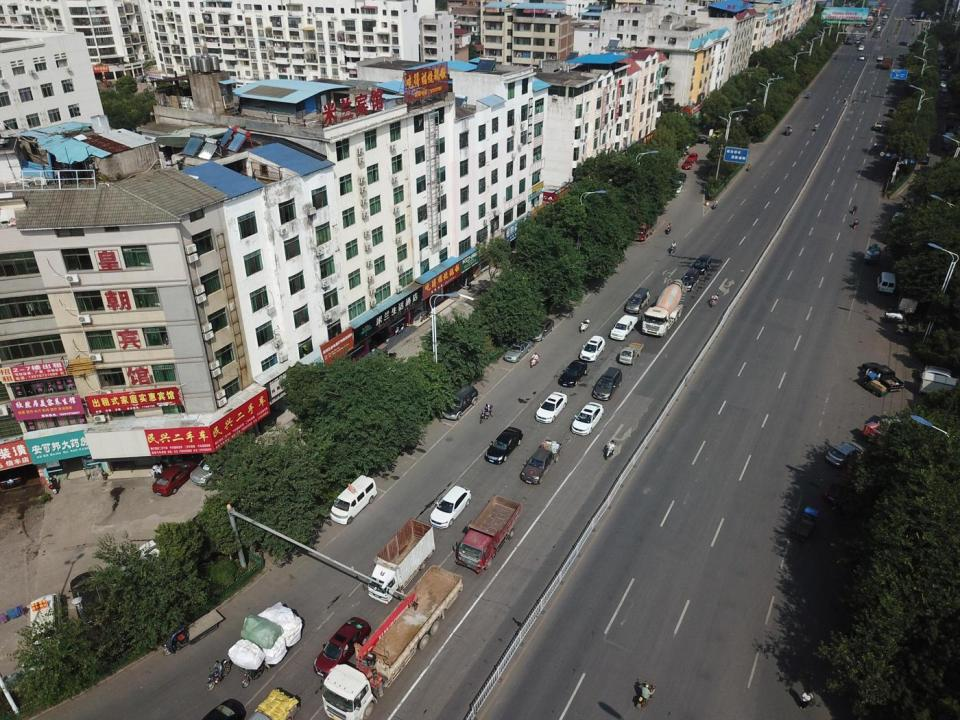car: (315, 615, 373, 676), (430, 485, 472, 531), (69, 571, 102, 626), (190, 457, 243, 487), (152, 462, 196, 497), (485, 426, 524, 464), (441, 385, 479, 420), (139, 539, 168, 580), (571, 402, 605, 435), (533, 392, 568, 423), (823, 474, 858, 505), (591, 367, 623, 400), (826, 441, 867, 466), (558, 360, 588, 388), (502, 336, 531, 362), (580, 335, 606, 362), (527, 319, 554, 341), (919, 366, 953, 382), (693, 254, 710, 278), (682, 269, 700, 291), (668, 172, 686, 182), (892, 212, 905, 225), (692, 136, 710, 144), (920, 151, 929, 165), (673, 182, 684, 193), (712, 128, 723, 139), (682, 160, 694, 169), (686, 152, 698, 161), (898, 40, 909, 46), (885, 7, 890, 16), (877, 55, 884, 61), (858, 45, 864, 51), (856, 42, 862, 48), (859, 54, 864, 60), (872, 32, 877, 38), (876, 24, 880, 31), (883, 14, 888, 18), (881, 20, 885, 24), (856, 38, 859, 42), (912, 22, 915, 26)
truck: (322, 564, 463, 718), (368, 518, 434, 605), (458, 494, 524, 574), (518, 440, 562, 485), (642, 303, 684, 336), (247, 693, 302, 718), (862, 363, 904, 392), (919, 371, 960, 395), (632, 209, 658, 240), (609, 316, 638, 340), (863, 421, 890, 446), (619, 342, 643, 366), (882, 416, 915, 432), (884, 312, 904, 322), (882, 54, 893, 69), (875, 121, 882, 130), (846, 36, 853, 44)
van: (330, 474, 378, 526), (30, 593, 63, 657), (624, 287, 651, 314), (878, 272, 896, 294)
